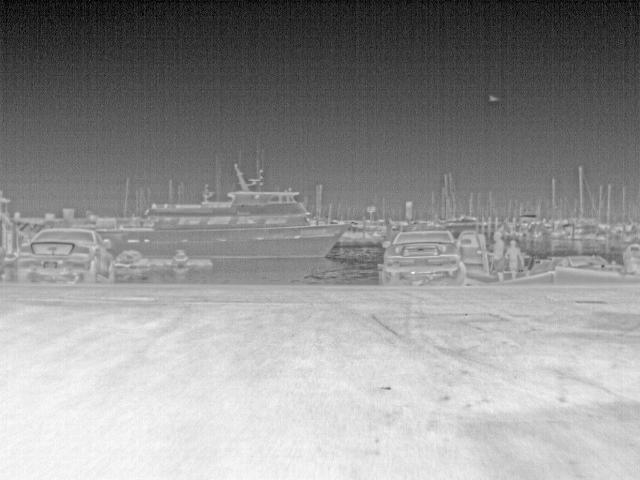car: (378, 228, 487, 285), (15, 226, 117, 283)
person: (486, 230, 506, 281), (504, 239, 526, 280)
